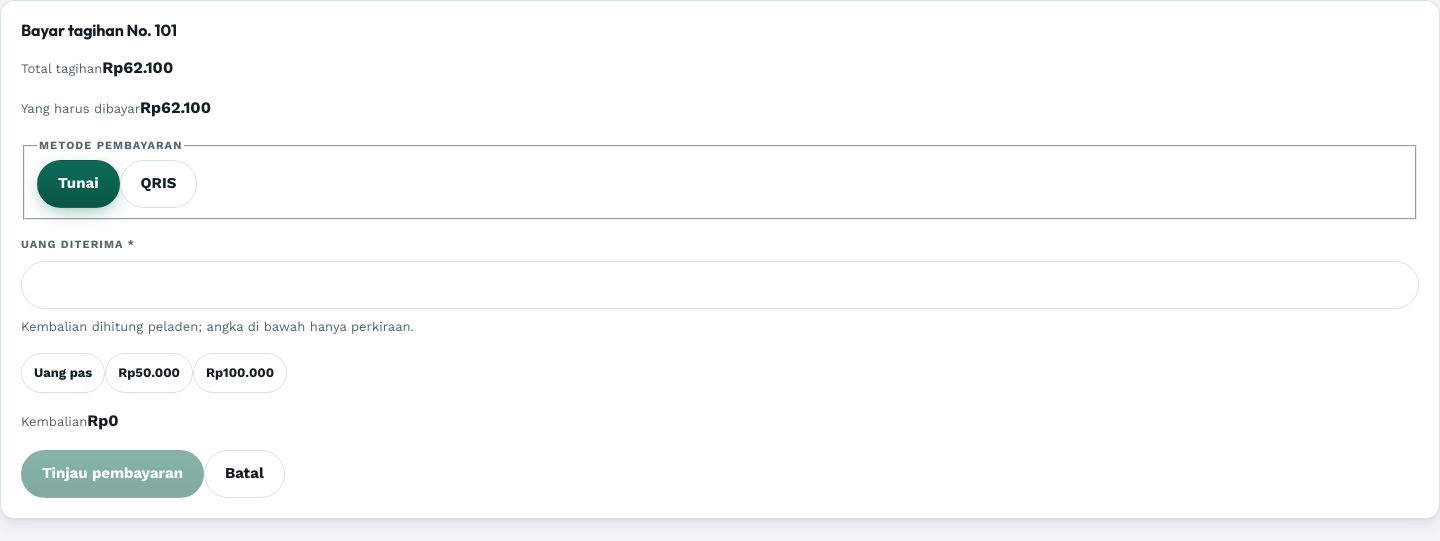
Test: Bayar (T5-01) › tunai: tombol uang cepat mengisi uang diterima dan kembalian tampil besar
Click the button "Rp100.000".
click(240, 373)  # box [193,353,287,393]
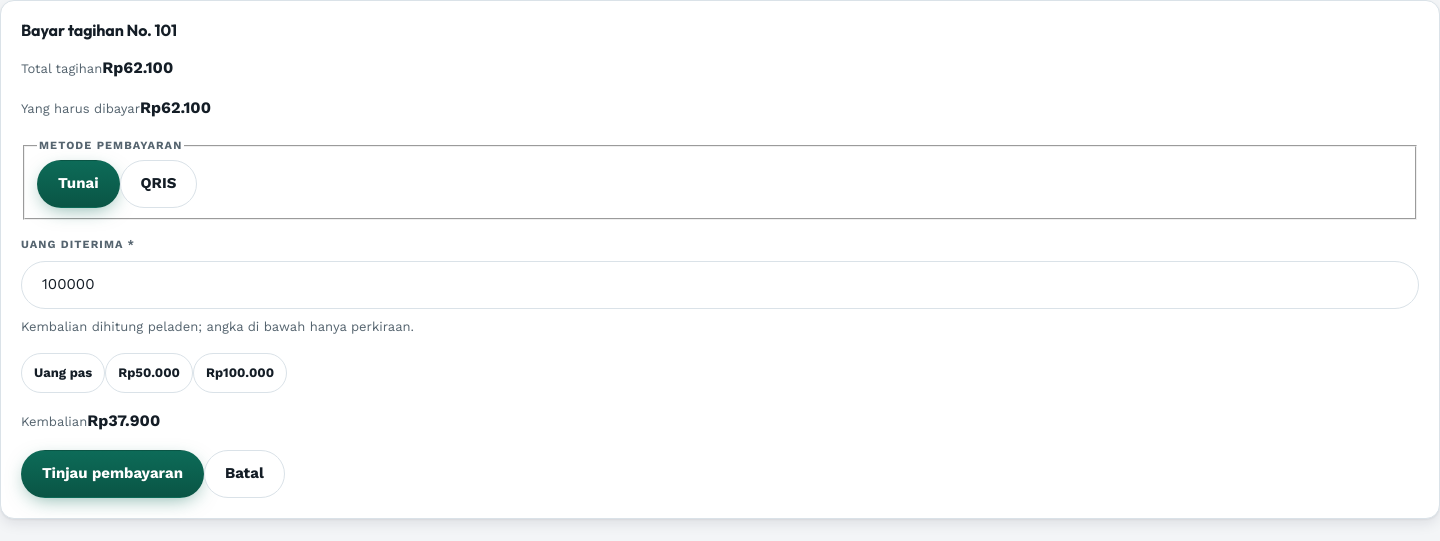
Check: the element with test id "kembalian" shows "Rp37.900", box [87,411,160,430]
Click the button "Uang pas".
click(63, 373)  # box [21,353,105,393]
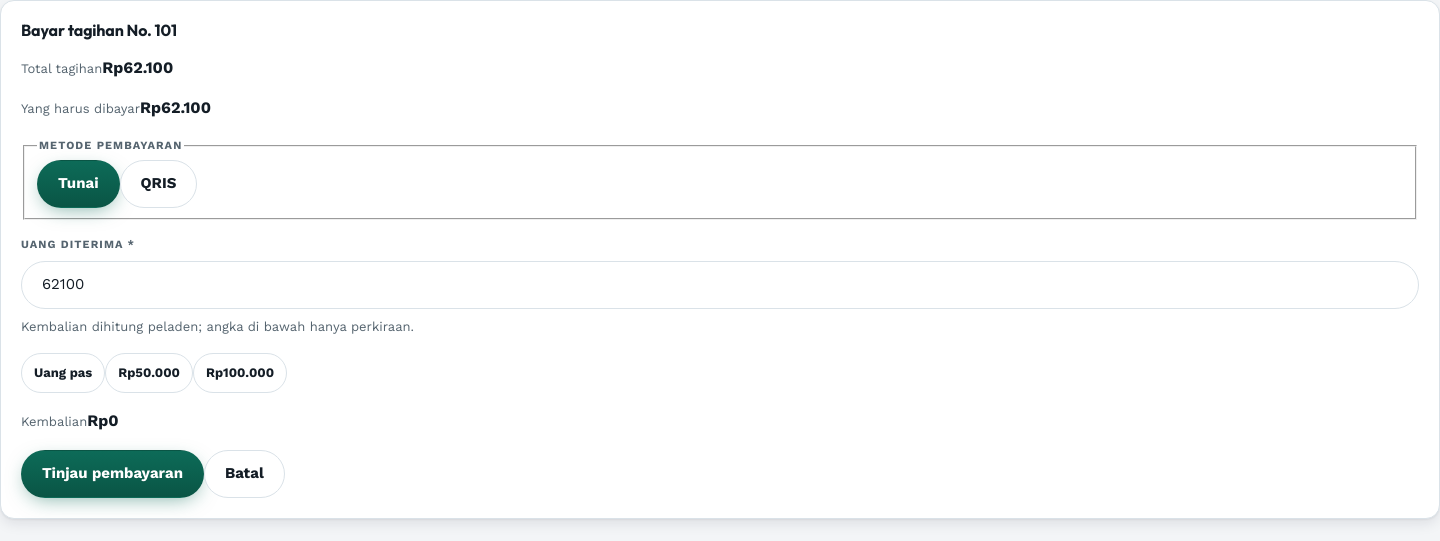
Check: the element with test id "kembalian" shows "Rp0", box [87,411,118,430]
